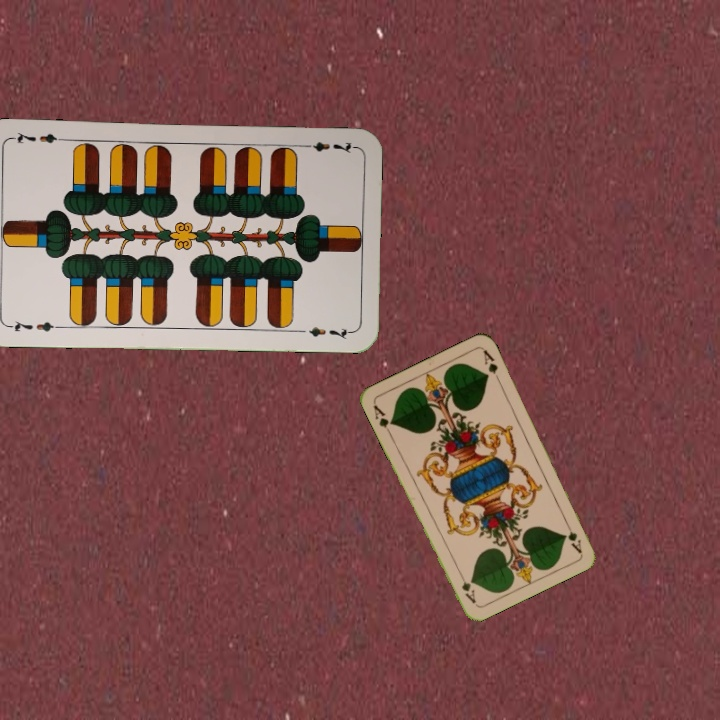E7: (4, 317, 63, 335), (297, 137, 356, 155)
GA: (369, 401, 396, 438), (561, 517, 584, 555)
